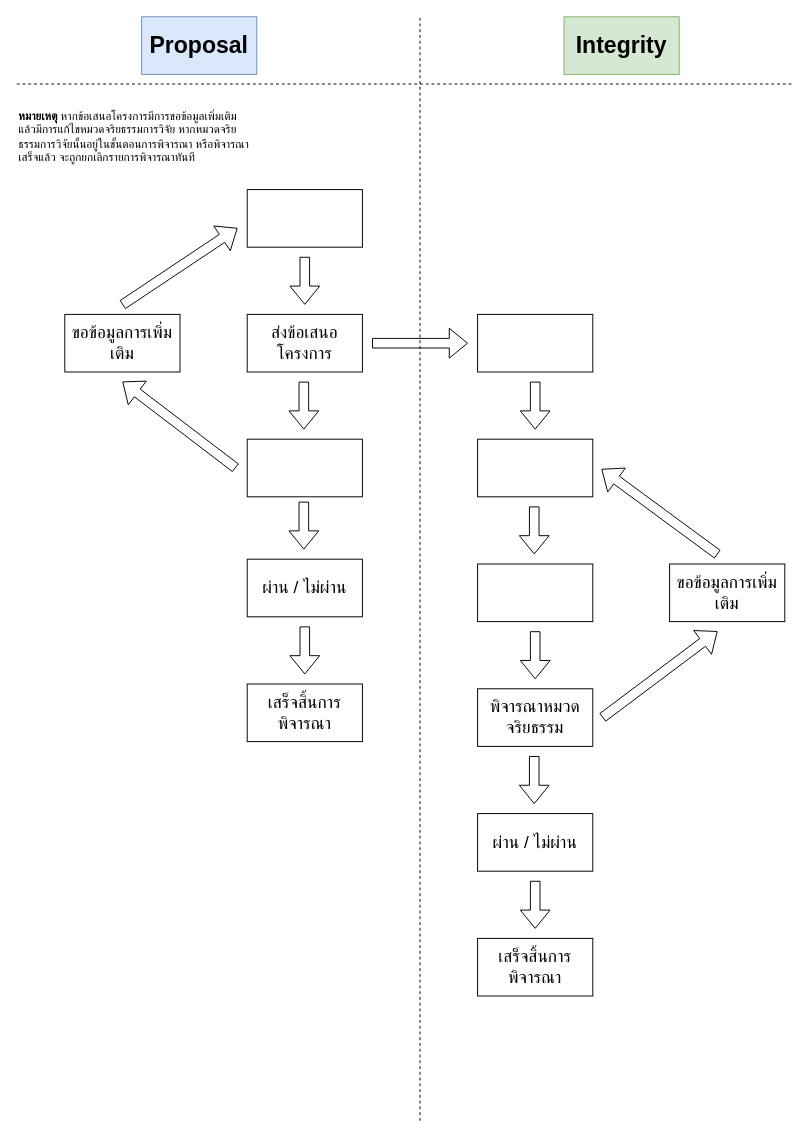
Some shapes in this 812 by 1139 pixel diagram are drawn without their labels. The shapes that lost their labels are listed below. From the top down, each one's centre as x and y in pixels, then its label:
At point 304,218: "สร้าง/แก้ไข ข้อเสนอโครงการ".
At point 535,342: "รายการข้อเสนอโครงการที่ส่ง".
At point 304,467: "พิจารณาข้อเสนอโครงการ".
At point 535,467: "สร้าง/แก้ไข หมวดจริยธรรม".
At point 535,592: "ส่ง หมวดจริยธรรม".
